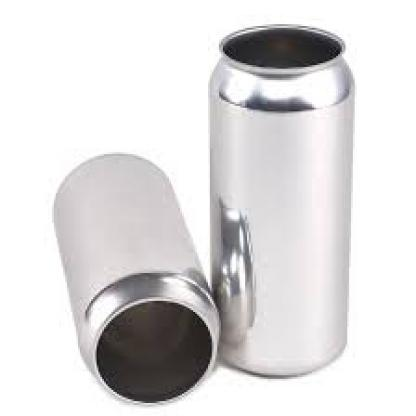METAL: (206, 17, 359, 379), (52, 151, 221, 401)
